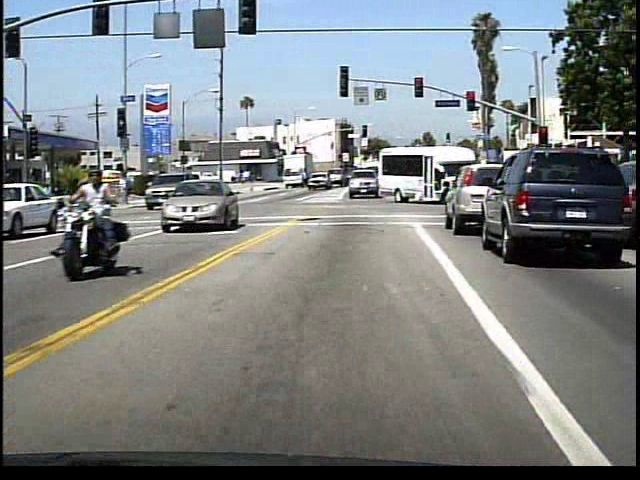person: (68, 160, 131, 276)
